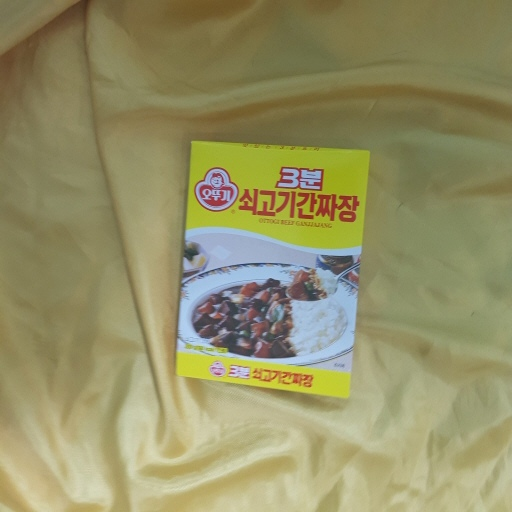Paper_0: (167, 133, 377, 408)
